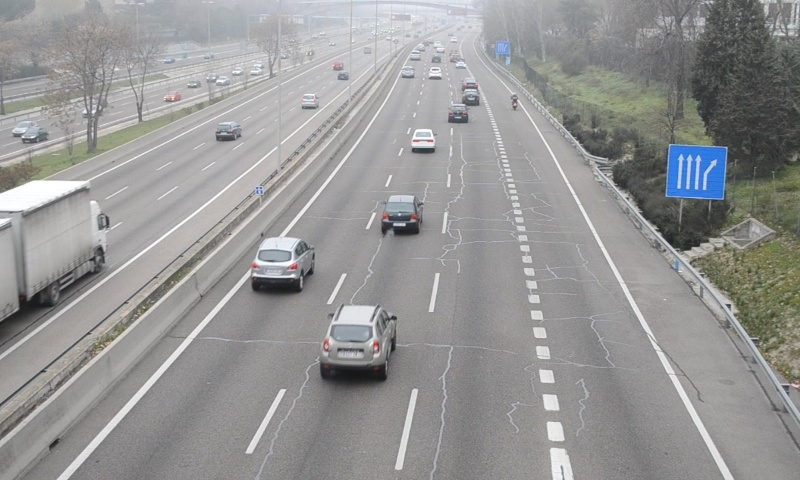car: (322, 304, 397, 365), (252, 237, 314, 282), (380, 194, 421, 234), (410, 128, 436, 149), (448, 103, 469, 122), (462, 88, 482, 104)
motorcycle: (511, 93, 520, 111)
